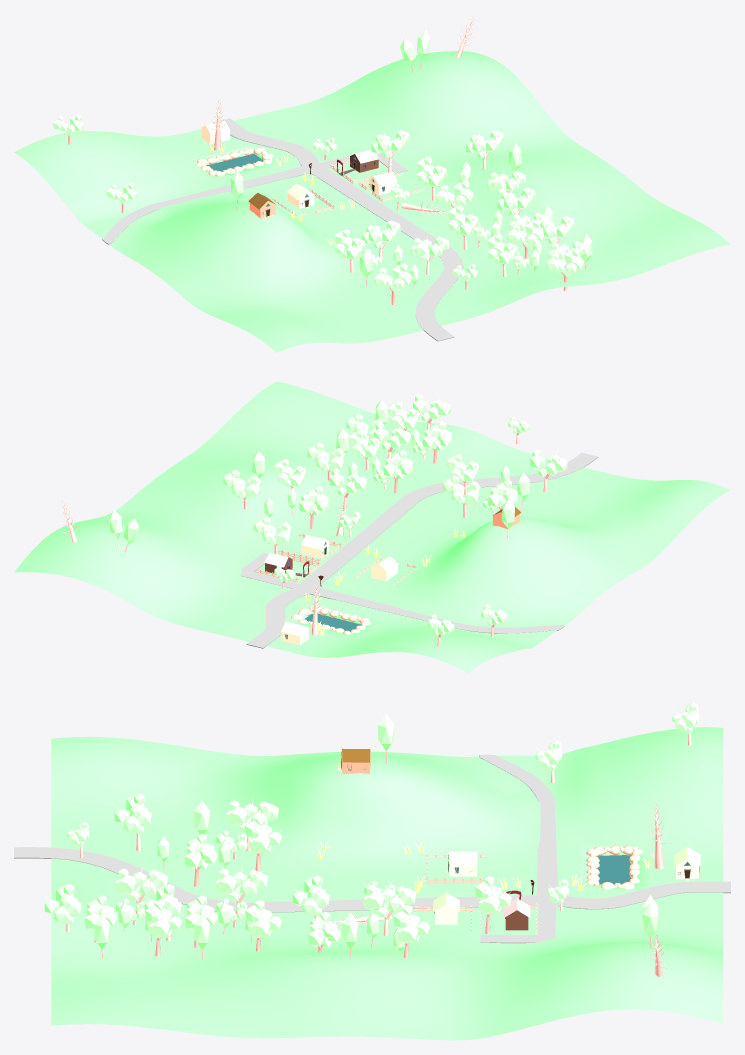
Rendered from city6.glb.
3 renders of one model, top to bottom at view 1: azimuth 30°, elevation 25°; view 2: azimuth 150°, elevation 25°; view 3: azimuth 270°, elevation 25°, orthographic. The views are drawn at different scales.
Parts seen in each view (by area): view 1: Landscape_Plane_Landscape, Road_Cube_001_Road, Rock_Cube_006_Rock, Tree_Leaf_018_Icosphere_029_Leaf, Tree_Leaf_008_Icosphere_013_Leaf, Tree_Leaf_021_Icosphere_034_Leaf, Tree_Leaf_011_Icosphere_018_Leaf, Tree_Leaf_012_Icosphere_019_Leaf, Tree_Leaf_022_Icosphere_035_Leaf, Tree_Leaf_007_Icosphere_012_Leaf, Tree_Leaf_Icosphere_Leaf, Tree_Leaf_024_Icosphere_039_Leaf (+6 smaller); view 2: Landscape_Plane_Landscape, Road_Cube_001_Road, Rock_Cube_006_Rock, Tree_Leaf_004_Icosphere_007_Leaf, Tree_Leaf_Icosphere_Leaf, Tree_Leaf_024_Icosphere_039_Leaf, Tree_Leaf_014_Icosphere_023_Leaf, Tree_Leaf_008_Icosphere_013_Leaf, Tree_Leaf_021_Icosphere_034_Leaf, Tree_Leaf_017_Icosphere_028_Leaf, Tree_Leaf_022_Icosphere_035_Leaf, Tree_Leaf_012_Icosphere_019_Leaf (+7 smaller); view 3: Landscape_Plane_Landscape, Road_Cube_001_Road, Rock_Cube_006_Rock, Tree_Leaf_012_Icosphere_019_Leaf, Tree_Leaf_022_Icosphere_035_Leaf, Tree_Leaf_017_Icosphere_028_Leaf, Tree_Leaf_007_Icosphere_012_Leaf, Tree_Leaf_018_Icosphere_029_Leaf, Tree_Leaf_021_Icosphere_034_Leaf, Tree_Leaf_008_Icosphere_013_Leaf, Tree_Leaf_004_Icosphere_007_Leaf, Tree_Leaf_Icosphere_Leaf (+12 smaller).
Boxes of the visible parts, x1,y1,x2,y2 form: Landscape_Plane_Landscape: (14,51,730,352); Road_Cube_001_Road: (102,118,463,341); Rock_Cube_006_Rock: (196,147,273,176); Tree_Leaf_018_Icosphere_029_Leaf: (545,248,584,276); Tree_Leaf_008_Icosphere_013_Leaf: (373,263,412,292); Tree_Leaf_021_Icosphere_034_Leaf: (435,180,473,207); Tree_Leaf_011_Icosphere_018_Leaf: (506,219,544,248); Tree_Leaf_012_Icosphere_019_Leaf: (447,205,479,236); Tree_Leaf_022_Icosphere_035_Leaf: (416,156,447,187); Tree_Leaf_007_Icosphere_012_Leaf: (334,229,365,259); Tree_Leaf_Icosphere_Leaf: (371,130,409,158); Tree_Leaf_024_Icosphere_039_Leaf: (465,130,504,158); Landscape_Plane_Landscape: (14,381,730,673); Road_Cube_001_Road: (240,452,598,648); Rock_Cube_006_Rock: (291,606,371,634); Tree_Leaf_004_Icosphere_007_Leaf: (442,475,480,504); Tree_Leaf_Icosphere_Leaf: (253,516,291,545); Tree_Leaf_024_Icosphere_039_Leaf: (222,470,260,498); Tree_Leaf_014_Icosphere_023_Leaf: (307,442,344,471); Tree_Leaf_008_Icosphere_013_Leaf: (530,449,568,476); Tree_Leaf_021_Icosphere_034_Leaf: (329,468,367,495); Tree_Leaf_017_Icosphere_028_Leaf: (422,421,451,451); Tree_Leaf_022_Icosphere_035_Leaf: (299,486,328,515); Tree_Leaf_012_Icosphere_019_Leaf: (383,450,412,479); Landscape_Plane_Landscape: (51,727,723,1040); Road_Cube_001_Road: (14,754,730,943); Rock_Cube_006_Rock: (586,845,642,889); Tree_Leaf_012_Icosphere_019_Leaf: (215,868,268,901); Tree_Leaf_022_Icosphere_035_Leaf: (363,885,416,918); Tree_Leaf_017_Icosphere_028_Leaf: (115,868,167,901); Tree_Leaf_007_Icosphere_012_Leaf: (226,800,278,833); Tree_Leaf_018_Icosphere_029_Leaf: (44,884,81,924); Tree_Leaf_021_Icosphere_034_Leaf: (292,875,329,915); Tree_Leaf_008_Icosphere_013_Leaf: (114,793,151,834); Tree_Leaf_004_Icosphere_007_Leaf: (245,815,281,853); Tree_Leaf_Icosphere_Leaf: (474,876,511,914).
Size of the model in its own units: 1.78 by 0.318 by 1.9.
